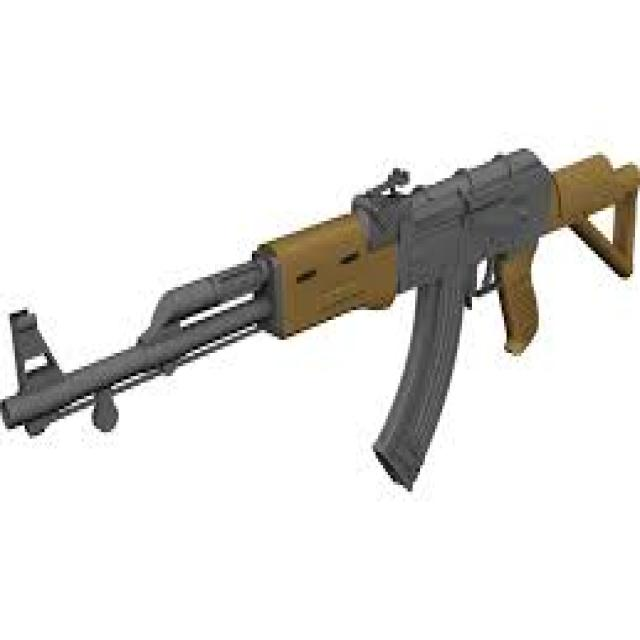rifle: (1, 128, 640, 503)
